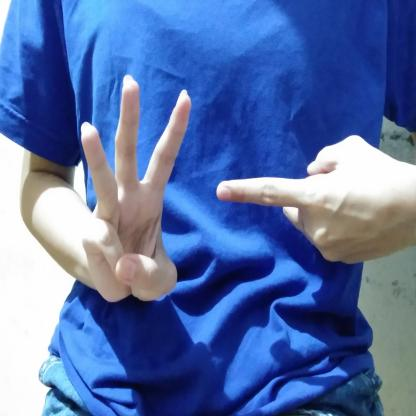why: (75, 64, 416, 312)
